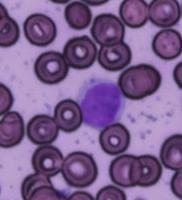L: (76, 77, 126, 129)
